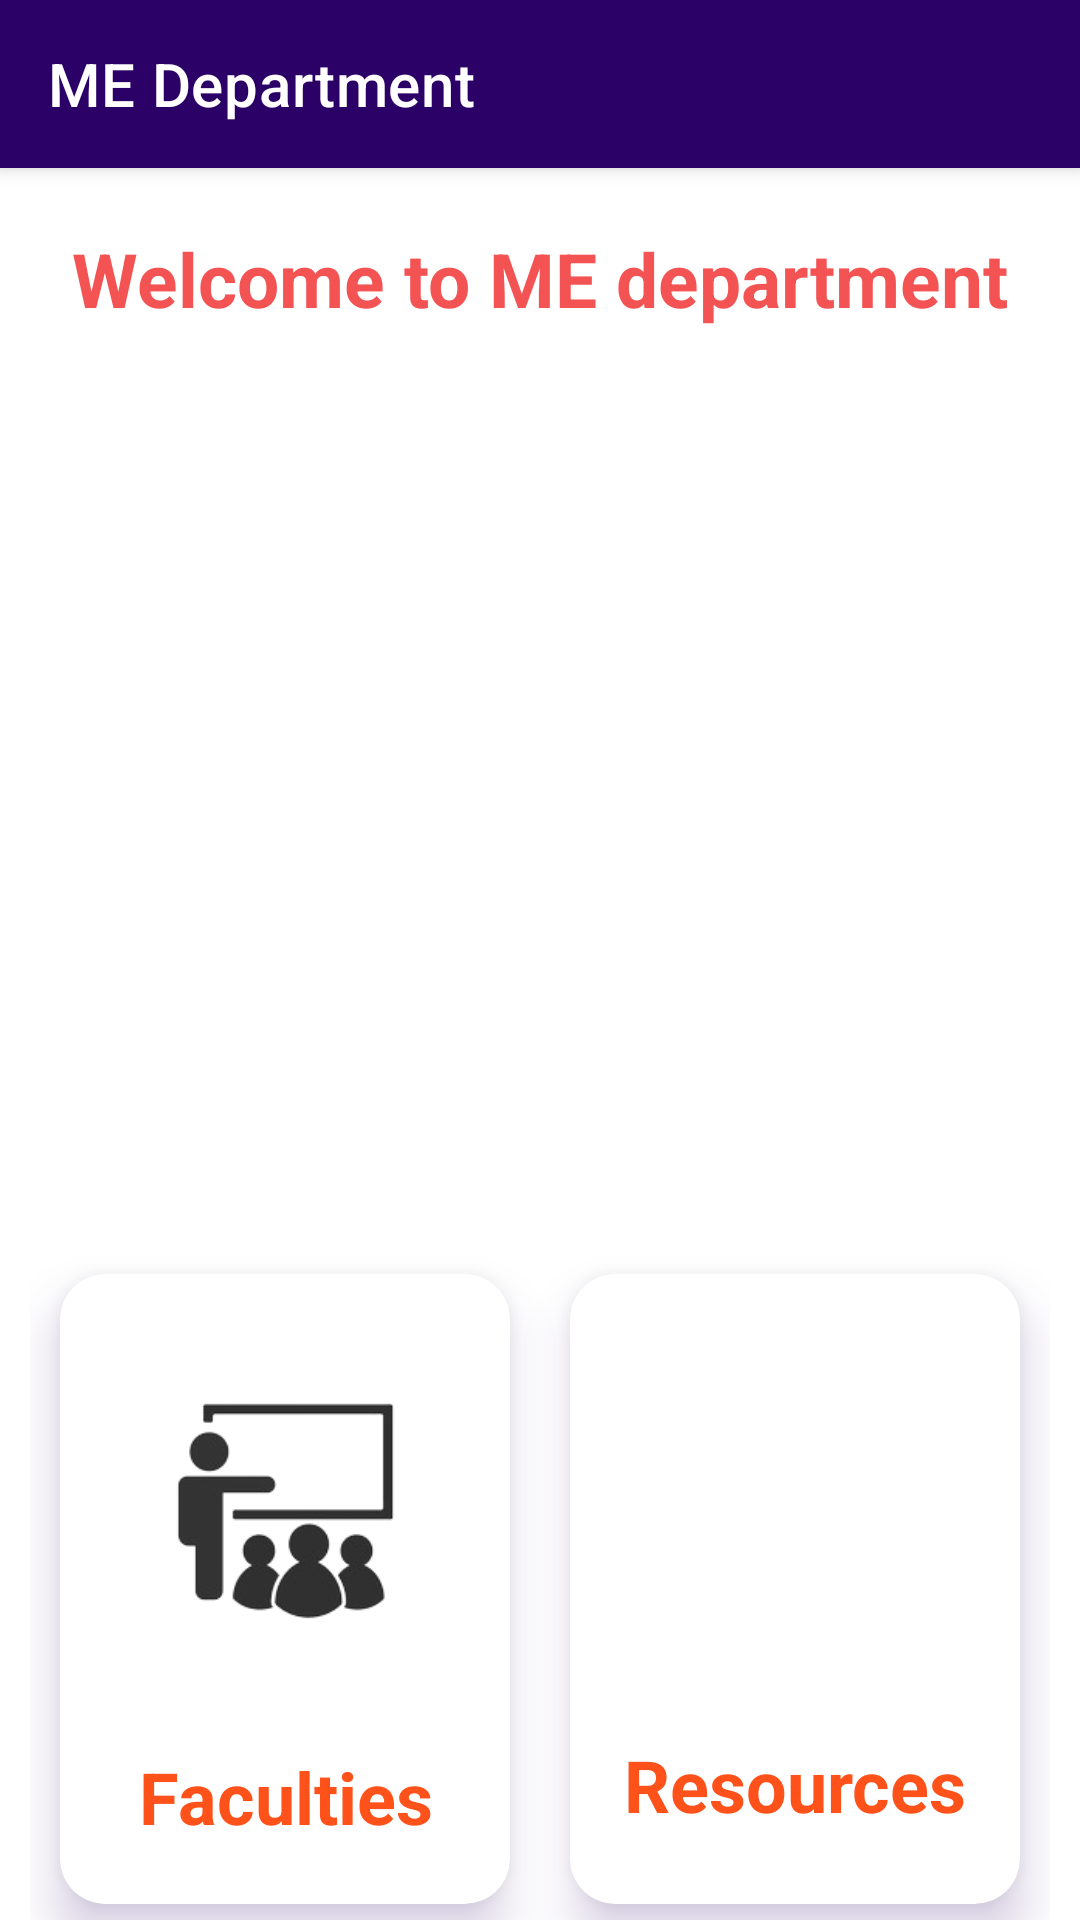

Icons on this 1080×1920 Android screen, each with its box as (x1, y1, x2, y2):
facultycse: (178, 1404, 393, 1618)
